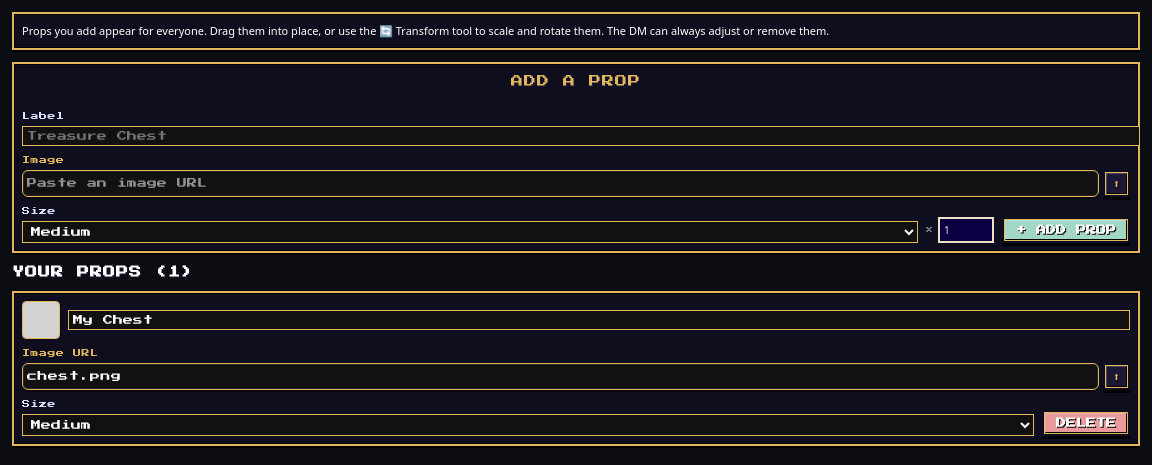
Test case: PlayerPropsPanel › clamps the count field to the shared limits on blur
The width and height of the screenshot is (1152, 465).
Replace the text in the number field named "How many props to add" with "99": (966, 230) left=938, top=216, right=994, bottom=242
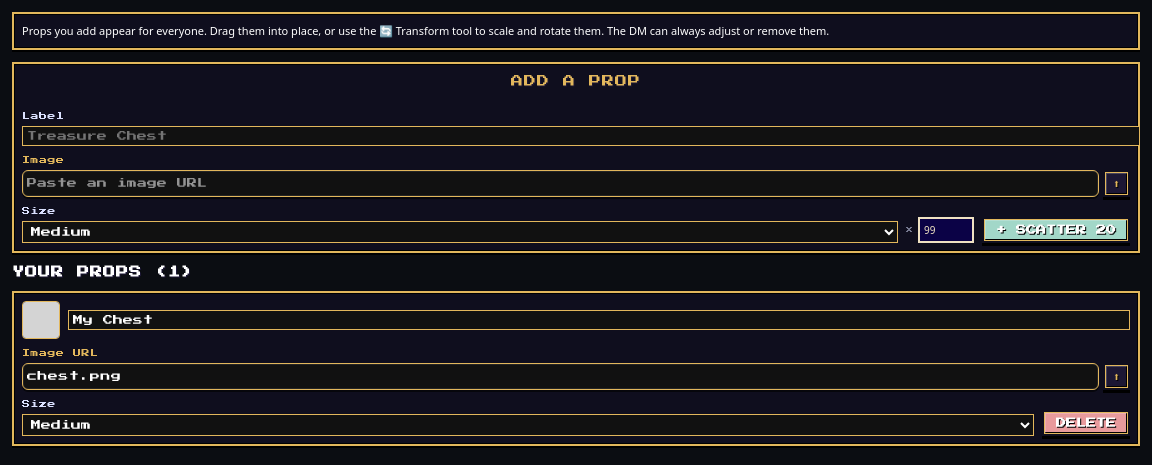
Expected: the button "+ Scatter 20" is shown, left=982, top=216, right=1130, bottom=242
Leave the number field named "How many props to add", box left=918, top=216, right=974, bottom=242
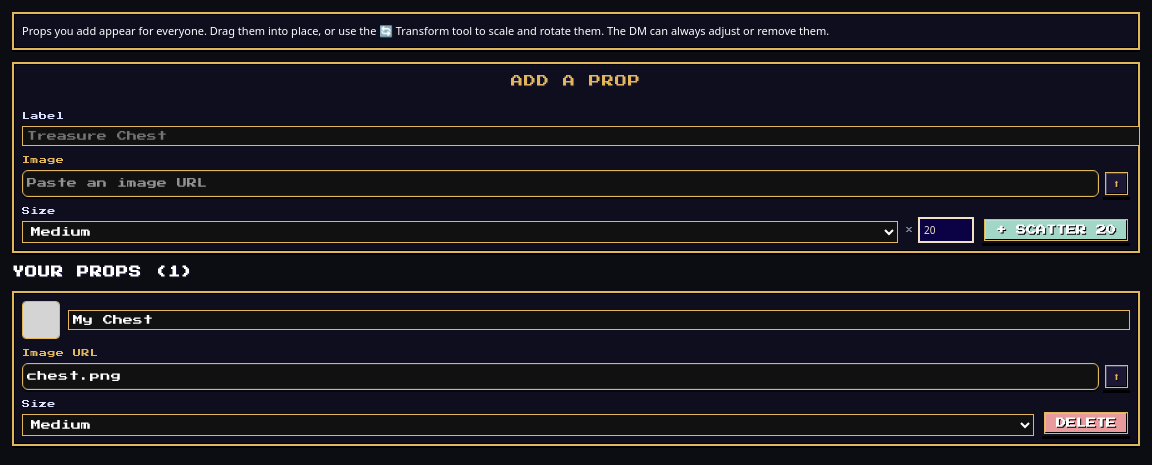
Expected: the number field named "How many props to add" holds "20", left=918, top=216, right=974, bottom=242
